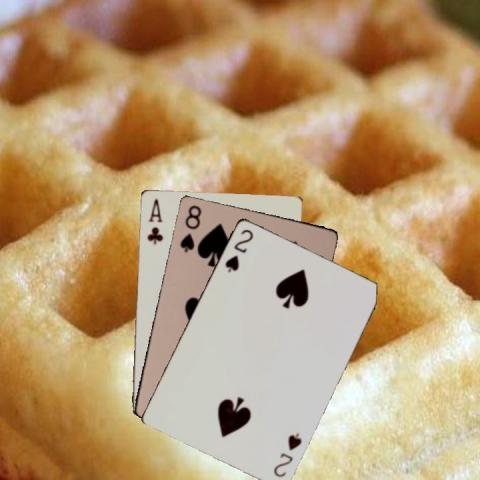2s: (270, 430, 303, 479), (222, 226, 255, 273)
8s: (176, 202, 202, 253)
Ac: (144, 196, 163, 246)
